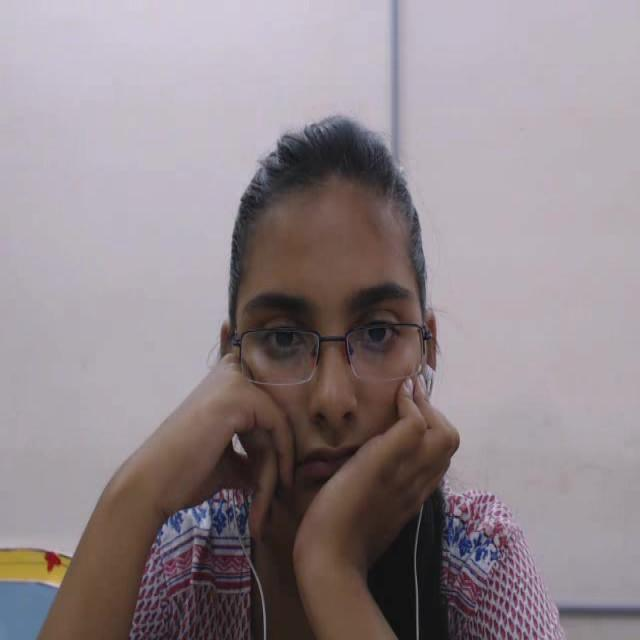Bored: (194, 91, 454, 553)
